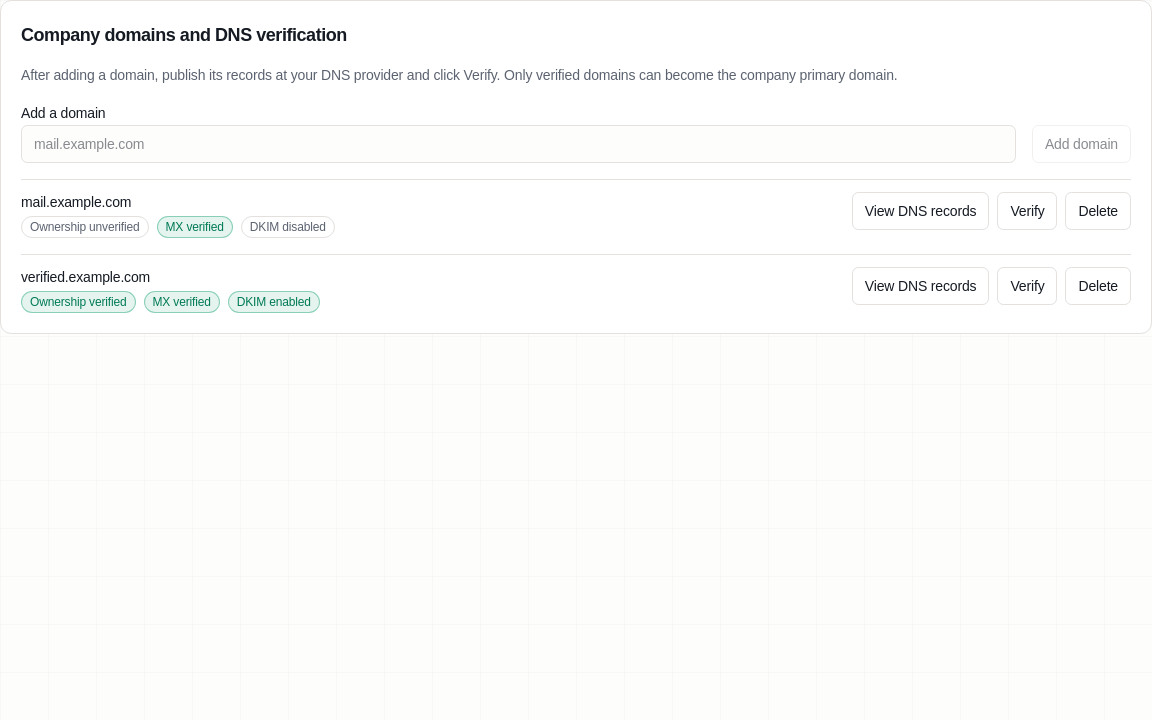
Test: CompanyDomainsSection › runs verification, shows all five checks and refreshes
Expected: the text "mail.example.com" is shown, [21,194,131,210]
Click the button "Verify" in the row of "DKIM disabled": point(1027, 211) [997,192,1058,230]
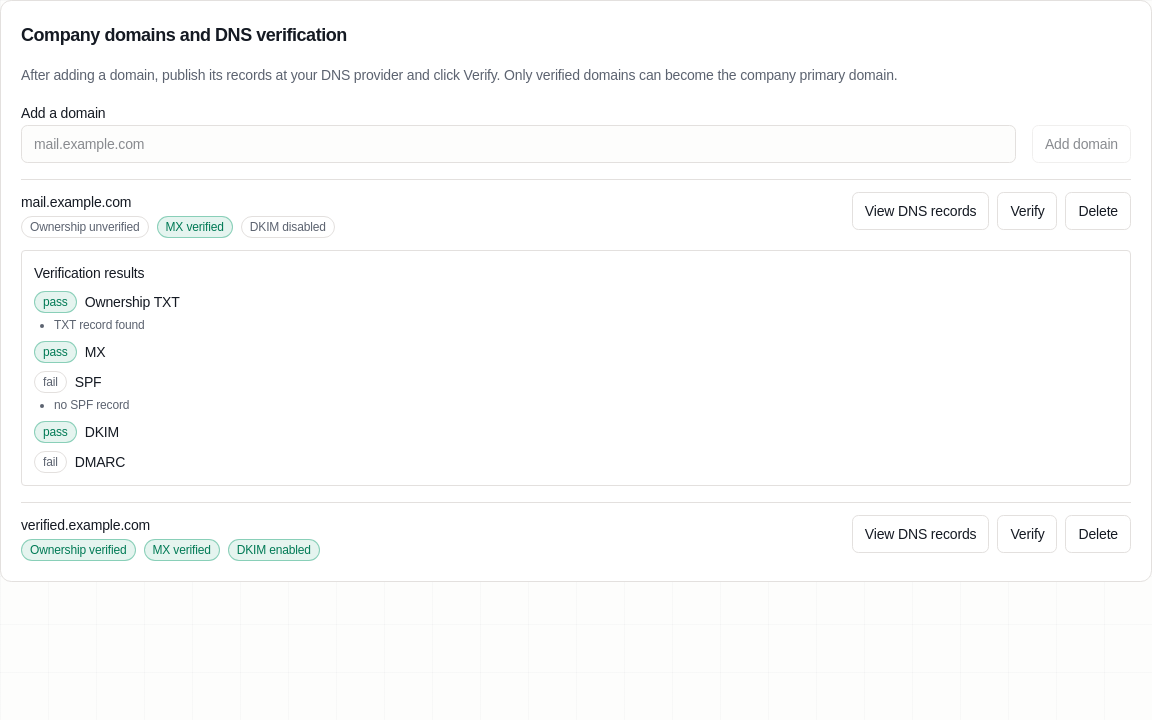
Now the text "Verification results" is shown, box [34,265,144,281]
Now the list item "TXT record found" is shown, box [54,318,145,332]
Now the list item "no SPF record" is shown, box [54,398,129,412]
